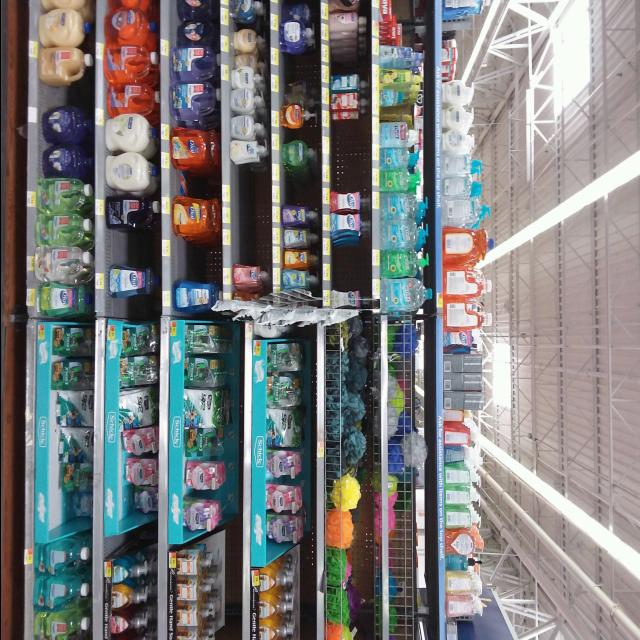empty_space: (230, 171, 266, 259), (330, 122, 364, 194), (328, 239, 355, 289), (172, 244, 212, 277), (107, 233, 144, 267), (285, 167, 314, 200), (46, 495, 74, 527), (45, 83, 79, 105), (105, 295, 139, 316), (329, 58, 360, 78), (105, 536, 135, 556), (280, 56, 306, 73)
